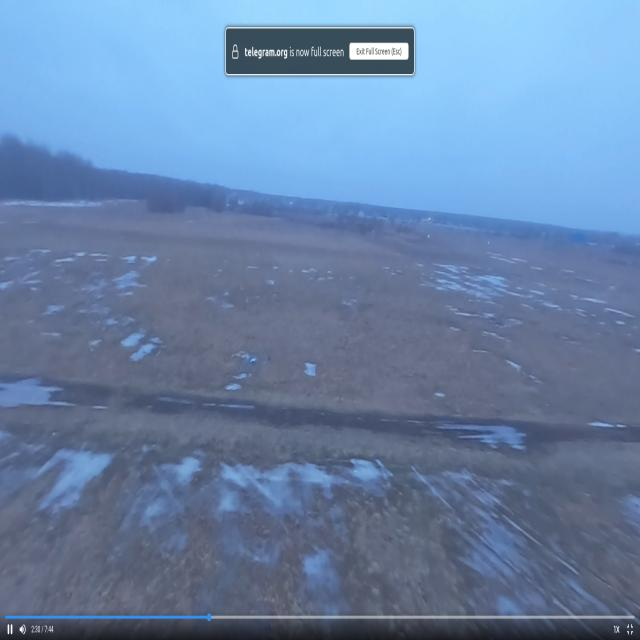planedrone: (242, 353, 272, 376)
